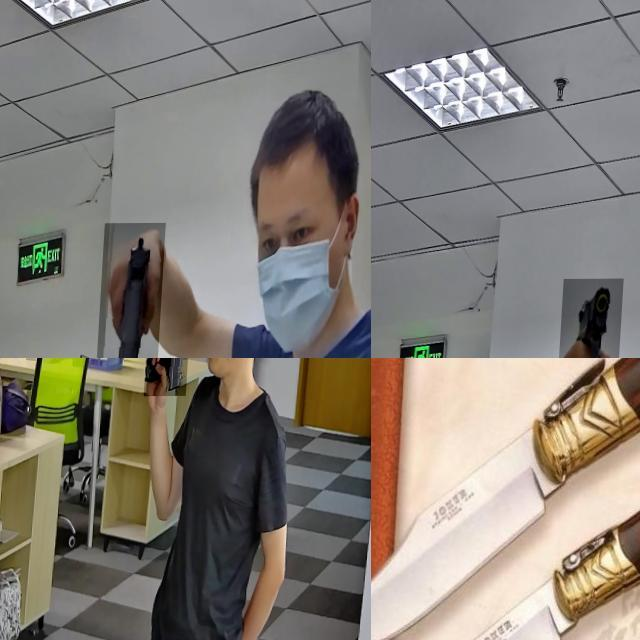-: (371, 443, 543, 640)
gun-knife-thesis - v11 Yolov5 augmented: (97, 223, 170, 358), (559, 279, 627, 358), (147, 358, 195, 415)
